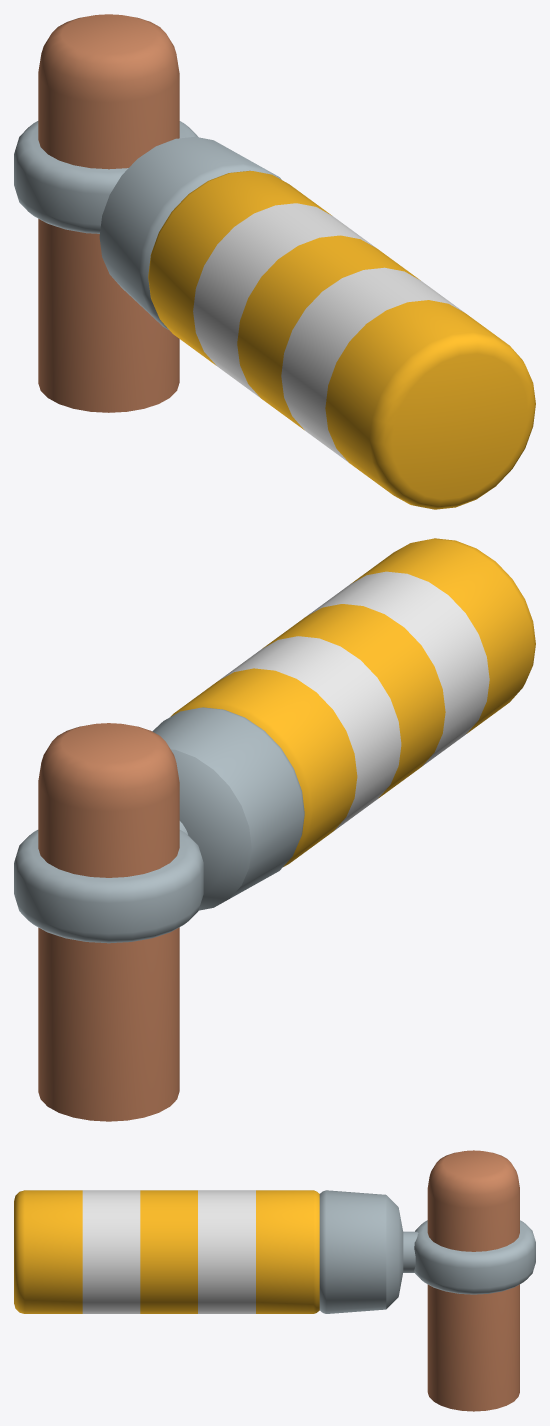
The model's file is swiper_teamYellow-col.glb.
3 renders of one model, top to bottom at view 1: azimuth 30°, elevation 25°; view 2: azimuth 150°, elevation 25°; view 3: azimuth 270°, elevation 25°, orthographic. The views are drawn at different scales.
Parts seen in each view (by area): view 1: swiper_teamYellow-col; view 2: swiper_teamYellow-col; view 3: swiper_teamYellow-col.
Boxes of the visible parts, box(x1,y1,x2,y2) form: swiper_teamYellow-col: box(14, 14, 535, 509); swiper_teamYellow-col: box(14, 538, 535, 1121); swiper_teamYellow-col: box(14, 1150, 535, 1411).
Bounding box in the file's own units: 0.8059 × 1.63 × 3.38.
